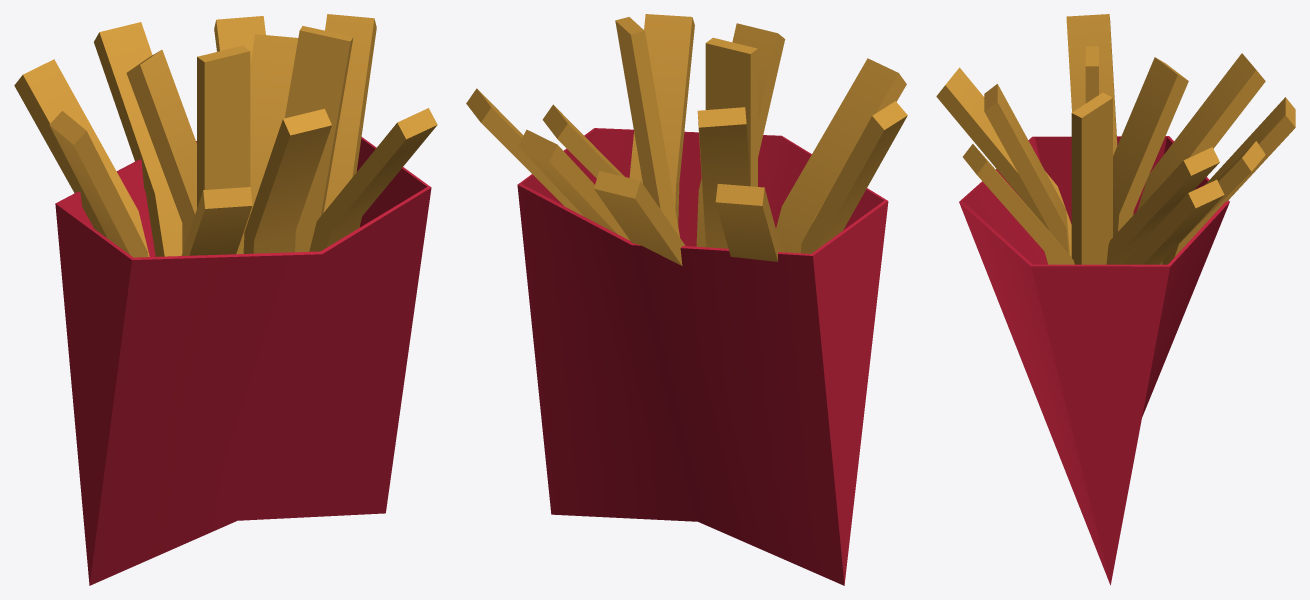
The model's file is potatofree_prop.FBX.
The picture shows the model from 3 angles, left to right: view 1: azimuth 30°, elevation 25°; view 2: azimuth 150°, elevation 25°; view 3: azimuth 270°, elevation 25°; orthographic projection. The views are drawn at different scales.
Parts seen in each view (by area): view 1: Box017; view 2: Box017; view 3: Box017.
Part boxes in pixels (bbox=[...]): Box017: bbox=[14, 14, 437, 585]; Box017: bbox=[466, 14, 907, 585]; Box017: bbox=[936, 14, 1295, 585].
Bounding box in the file's own units: 2.08 × 2.69 × 1.93.
